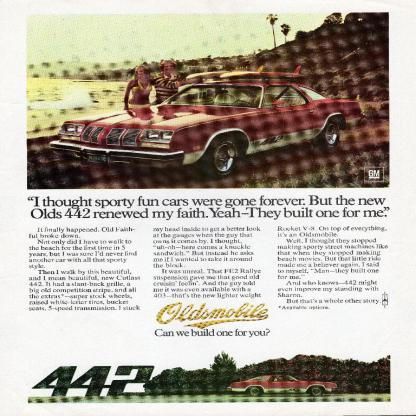Car: (51, 70, 361, 172), (226, 367, 342, 395)
